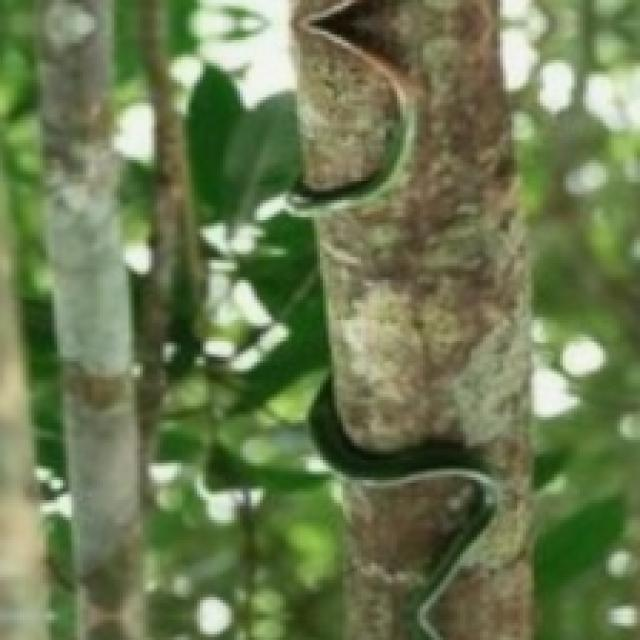red-tailed green ratsnake: (309, 378, 499, 639), (290, 0, 419, 216)
